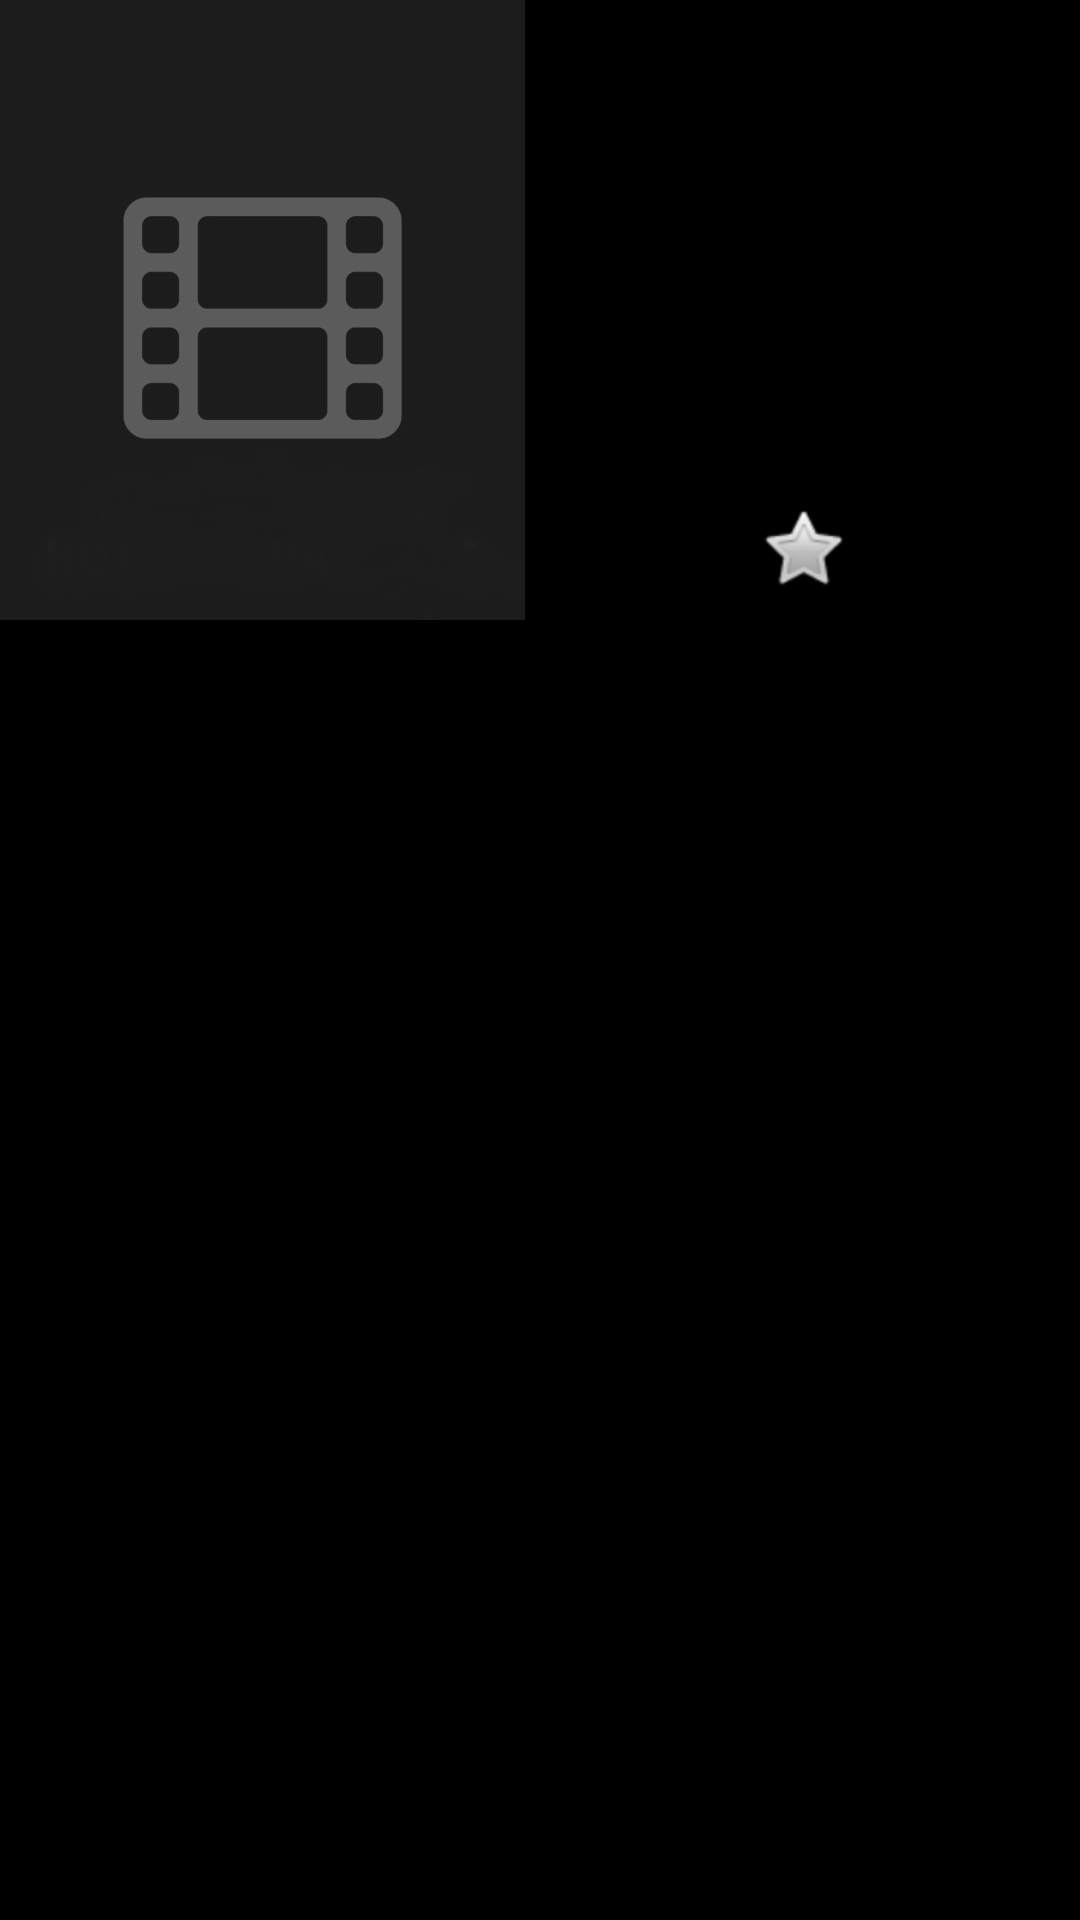

Icons on this 1080 x 1920 Android screen, each with the point to tap as point (x, y):
star: point (804, 548)
